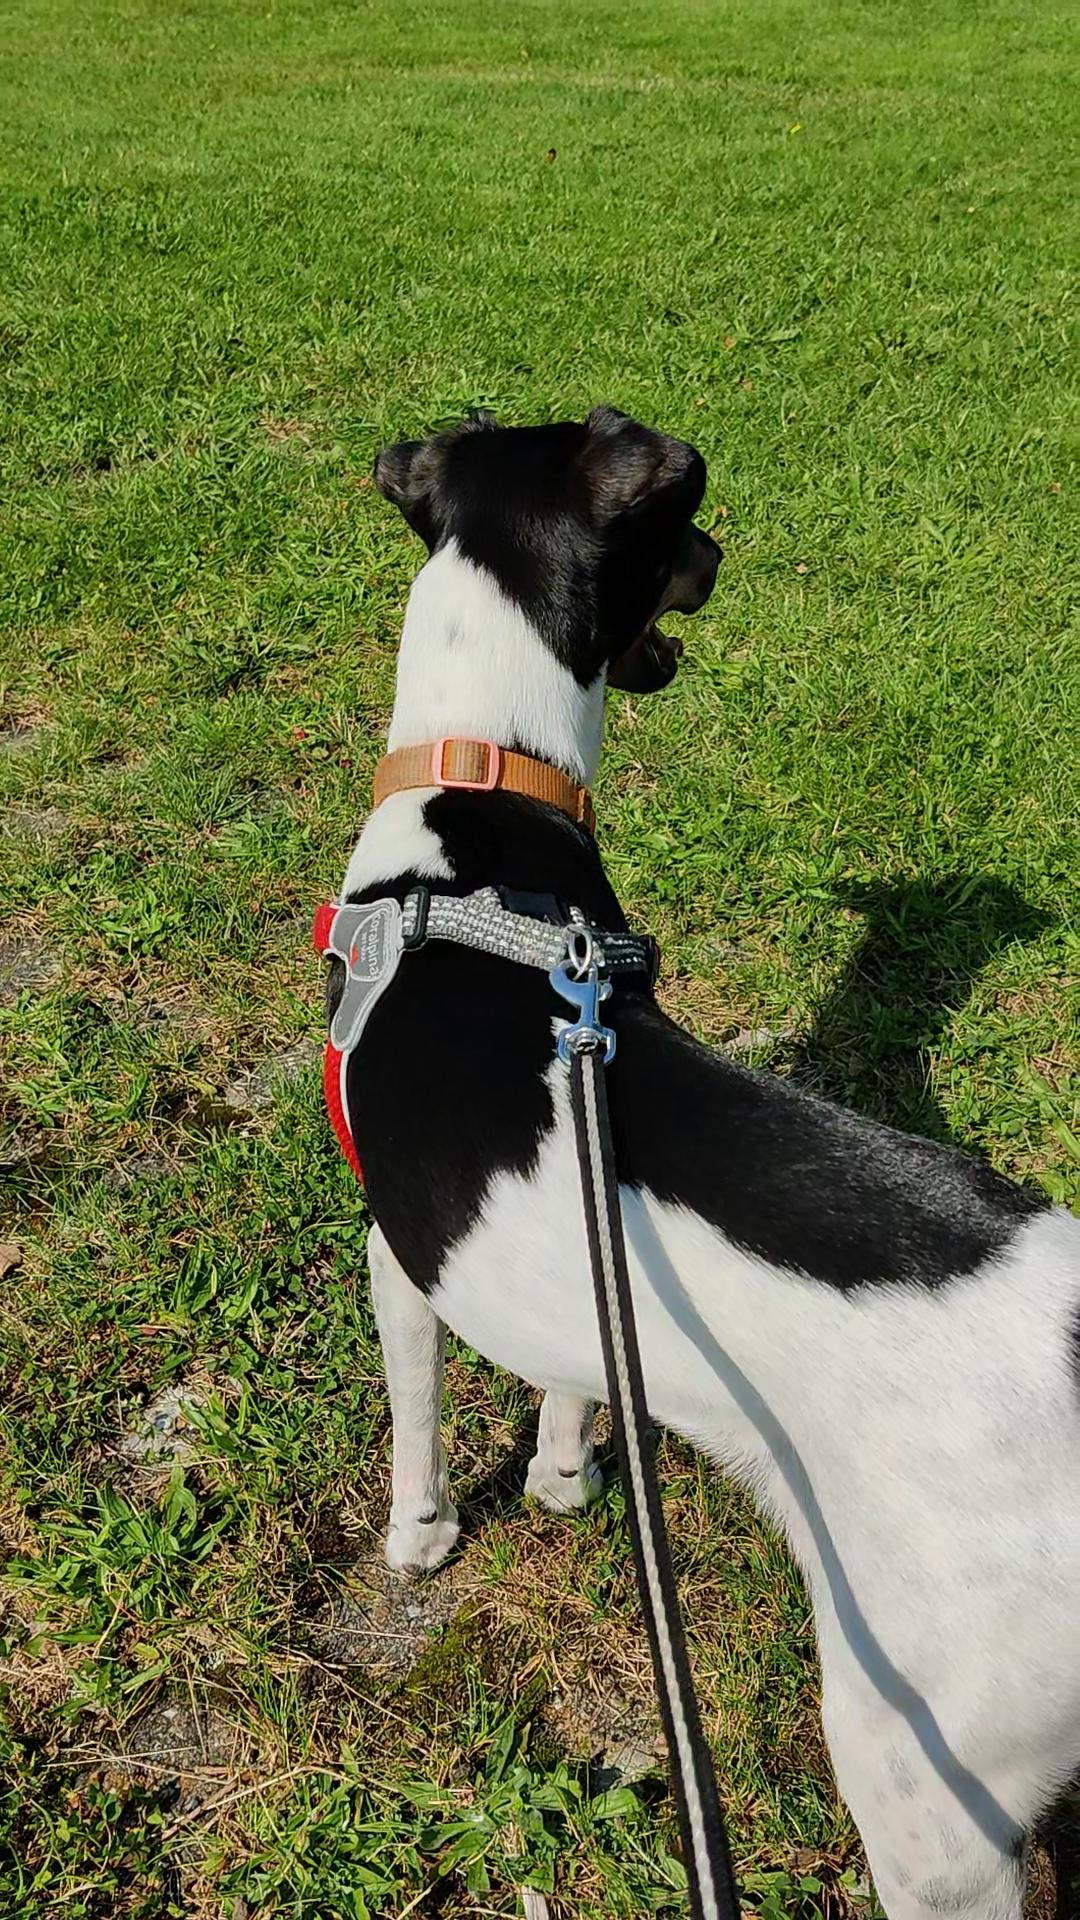Dog: (310, 396, 1079, 1919)
